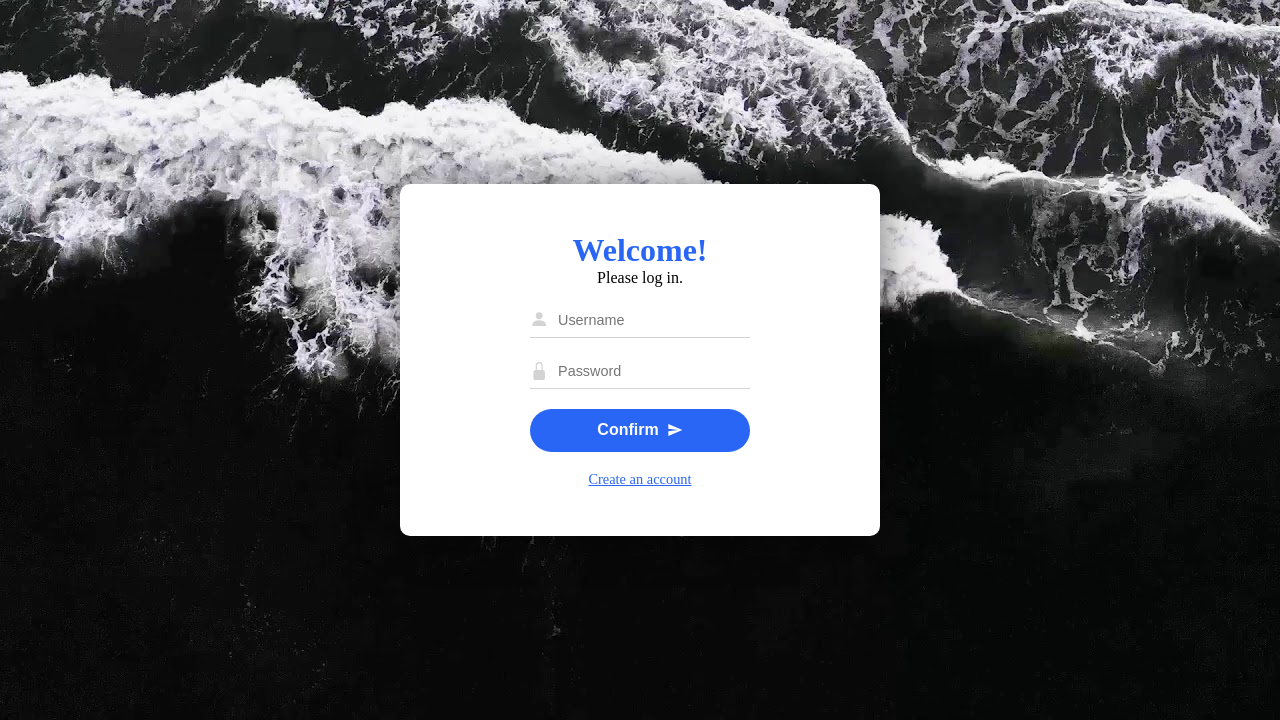
Test: LoginView › should correctly render fallback error
The width and height of the screenshot is (1280, 720).
Type "Anything" into the field with test id "login-input" at (651, 320), box [552,306,750,333]
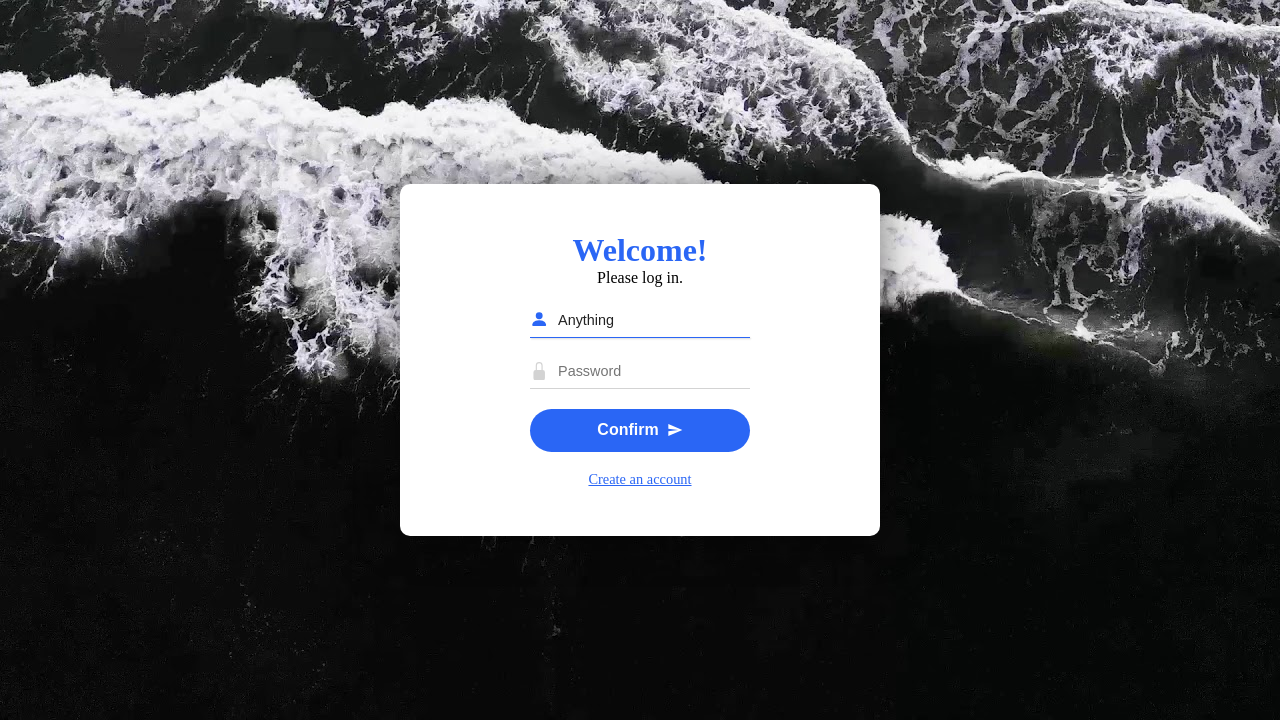
Type "Anything" into the password field with test id "password-input" at (651, 371), box [552,357,750,385]
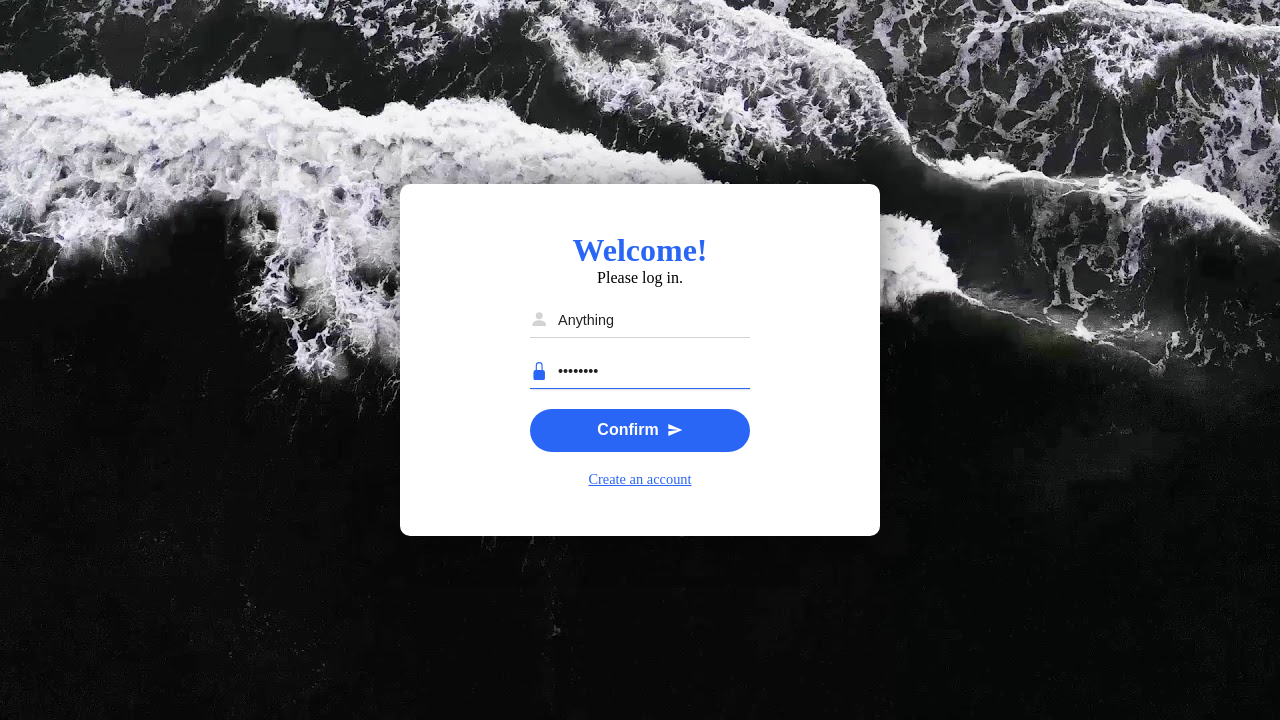
Click the button with test id "confirm-button" at (640, 430), box [530,409,750,452]
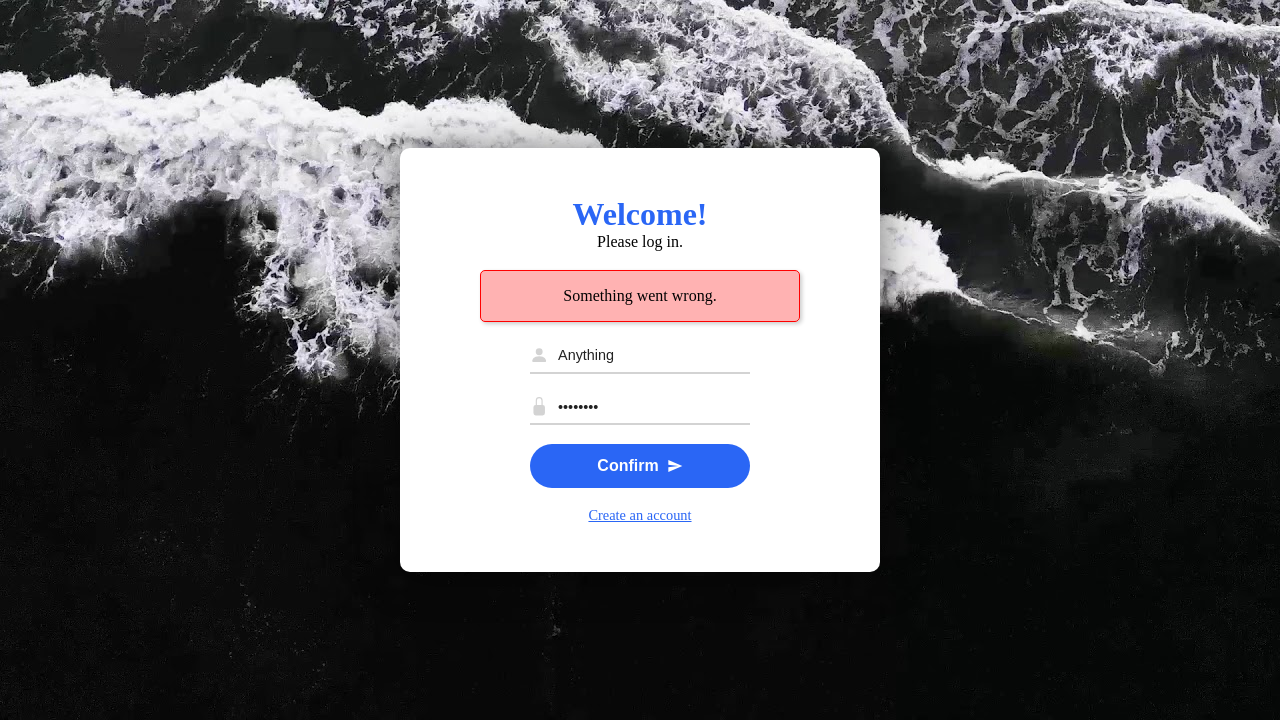
Now the text "Something went wrong." is shown, box [480,270,800,322]
